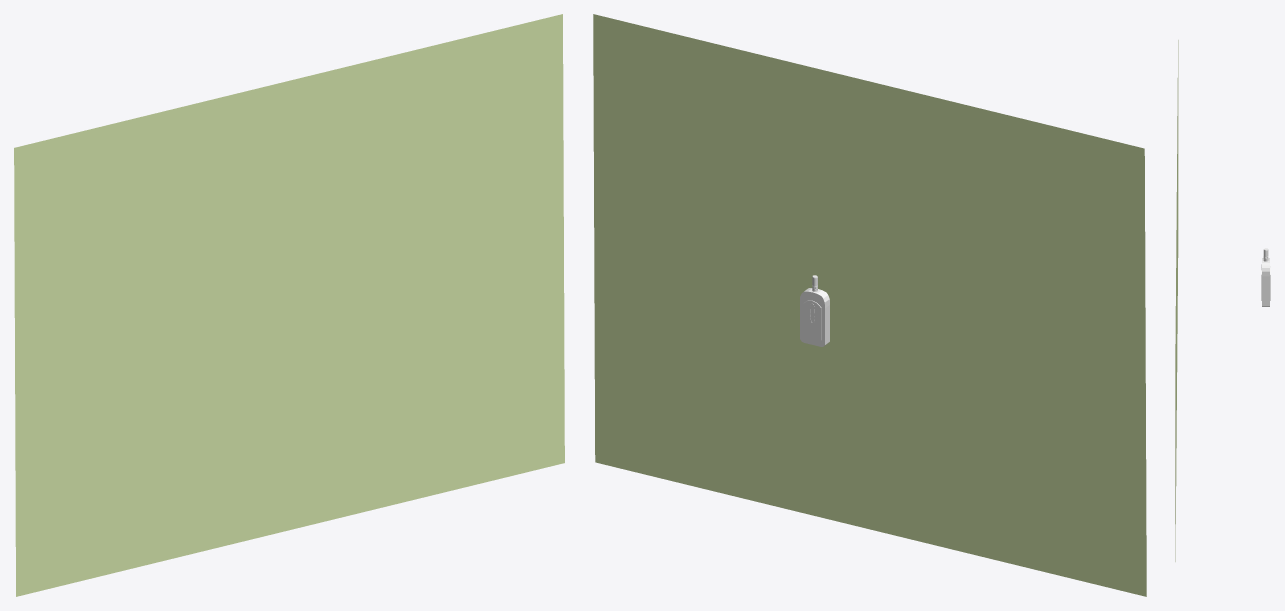
Rendered from Perfume1.glb.
3 renders of one model, left to right at view 1: azimuth 30°, elevation 25°; view 2: azimuth 150°, elevation 25°; view 3: azimuth 270°, elevation 25°, orthographic. The views are drawn at different scales.
Visible parts, largest first — view 1: Plane; view 2: Plane, Cube; view 3: Plane, Cube.
Part boxes in pixels (x1,y1,x2,y2): Plane: (14,14,564,596); Plane: (593,14,1146,596); Cube: (800,288,829,346); Plane: (1175,40,1178,561); Cube: (1261,258,1270,306).
Bounding box in the file's own units: 48.88 × 38.09 × 9.05.
